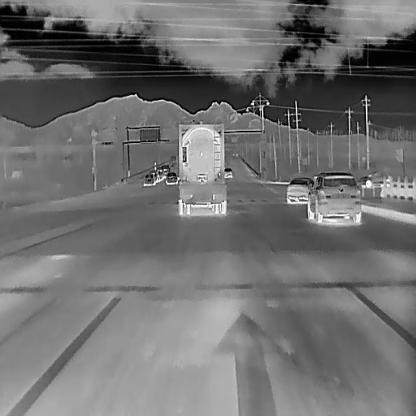car: (176, 122, 227, 214), (306, 171, 362, 223), (285, 177, 313, 203), (359, 170, 391, 187), (142, 173, 154, 186), (164, 172, 177, 184), (149, 170, 160, 183), (222, 166, 232, 178), (155, 167, 165, 179), (161, 164, 171, 175)
